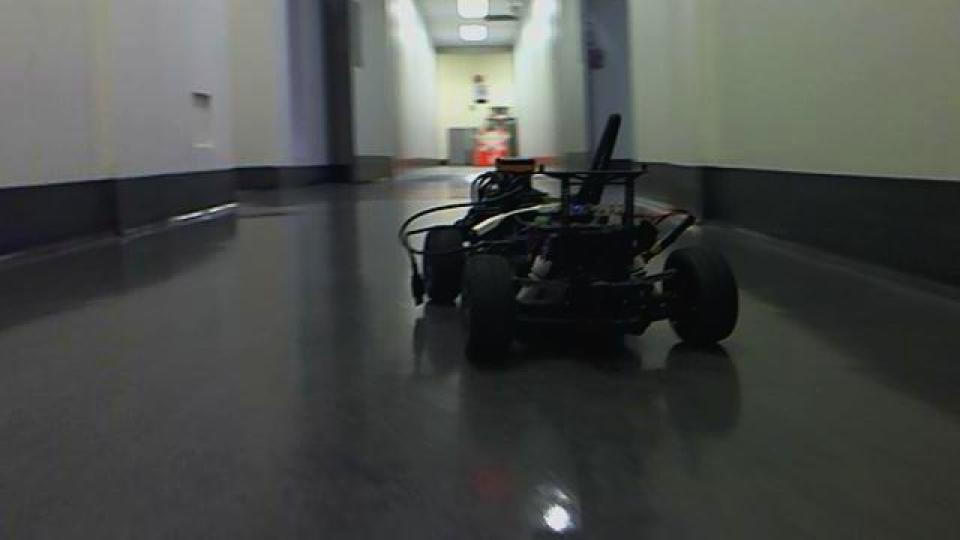car: (396, 111, 741, 363)
